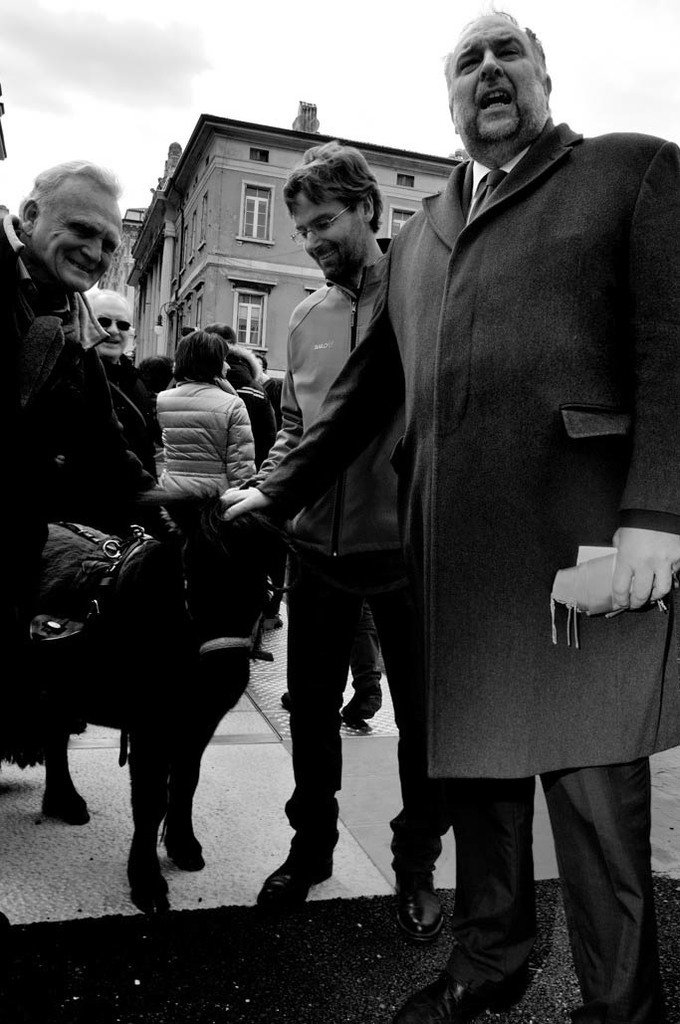Human_hand: (609, 524, 679, 611), (219, 488, 271, 524)
